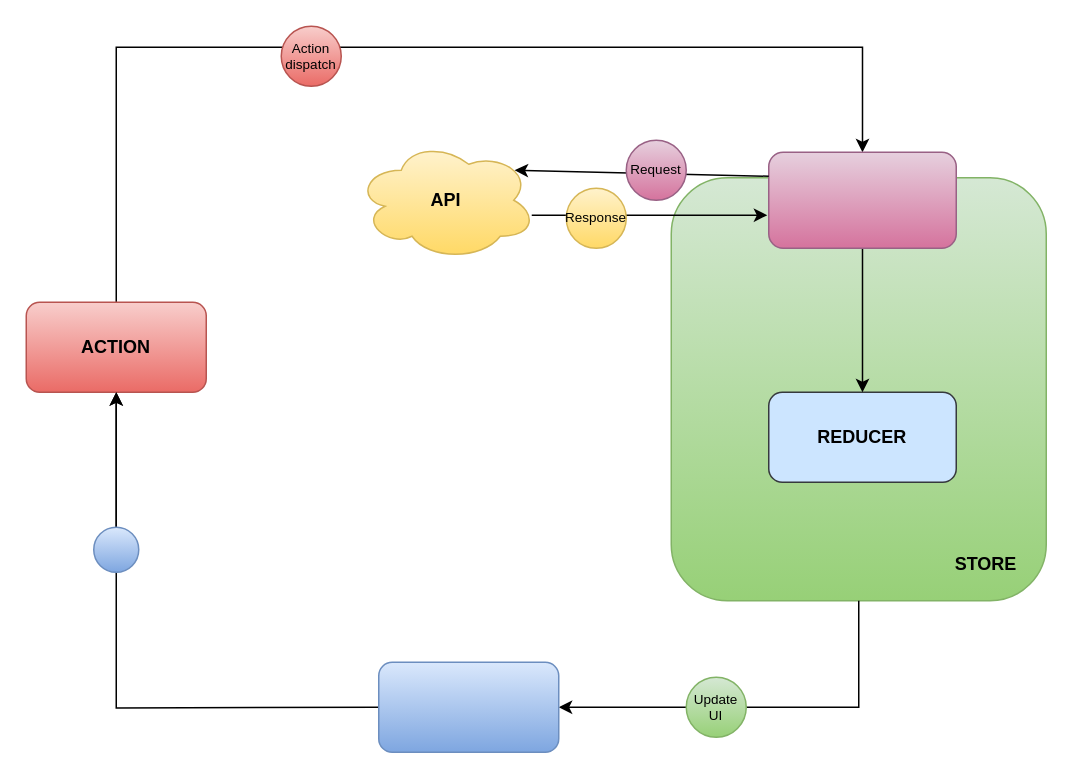
Image size: 1073x779. Some labels were removed from this diagram. Each missing label, with the box of its shape:
COMPONENT (UI): (377, 661, 559, 752)
event: (92, 526, 139, 572)
MIDDLEWARE: (767, 151, 956, 248)
